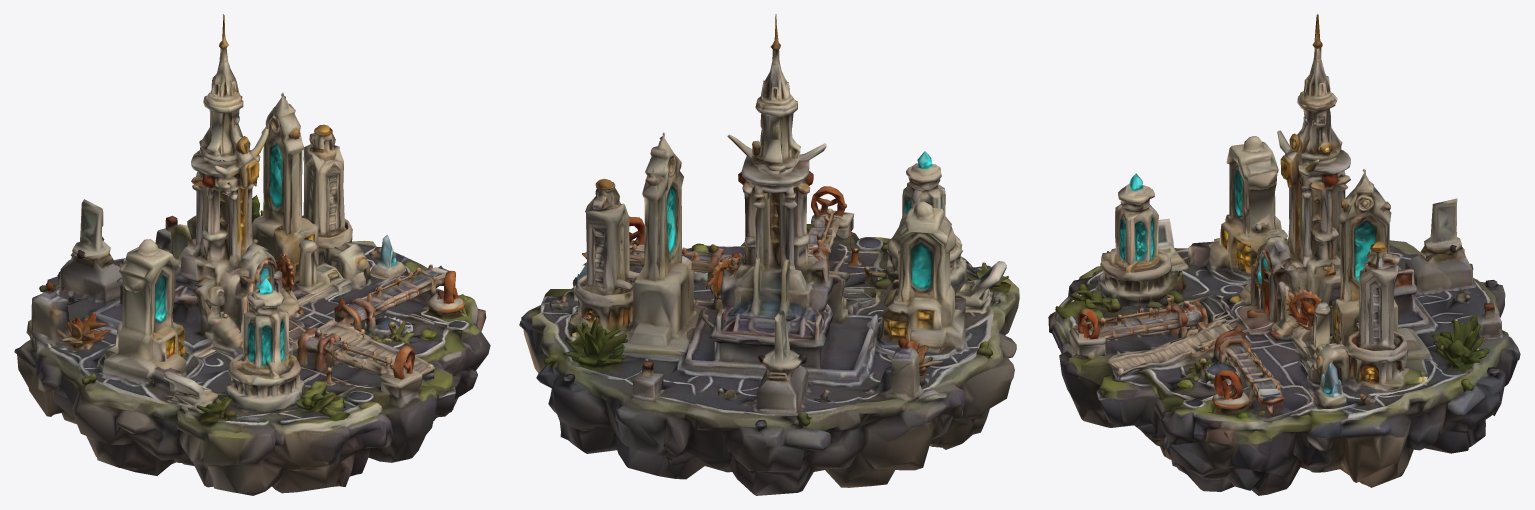
Rendered from human-city-island.glb.
3 views of the same model, side by side, from view 1: azimuth 30°, elevation 25°; view 2: azimuth 150°, elevation 25°; view 3: azimuth 270°, elevation 25° (orthographic). The views are drawn at different scales.
Visible parts, largest first — view 1: tripo_node_83555ed9-c992-4367-b9e7-108bc99f46c4; view 2: tripo_node_83555ed9-c992-4367-b9e7-108bc99f46c4; view 3: tripo_node_83555ed9-c992-4367-b9e7-108bc99f46c4.
Part boxes in pixels (x1,y1,x2,y2): tripo_node_83555ed9-c992-4367-b9e7-108bc99f46c4: [14, 14, 490, 495]; tripo_node_83555ed9-c992-4367-b9e7-108bc99f46c4: [519, 14, 1019, 495]; tripo_node_83555ed9-c992-4367-b9e7-108bc99f46c4: [1048, 14, 1520, 495].
Bounding box in the file's own units: 0.968 × 0.9175 × 0.9778.
Materials: 1 (1 with a texture image).
